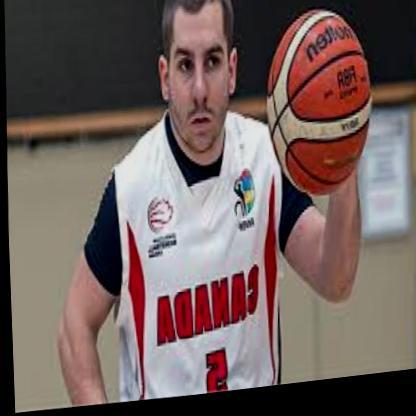basketball: (260, 14, 373, 206)
